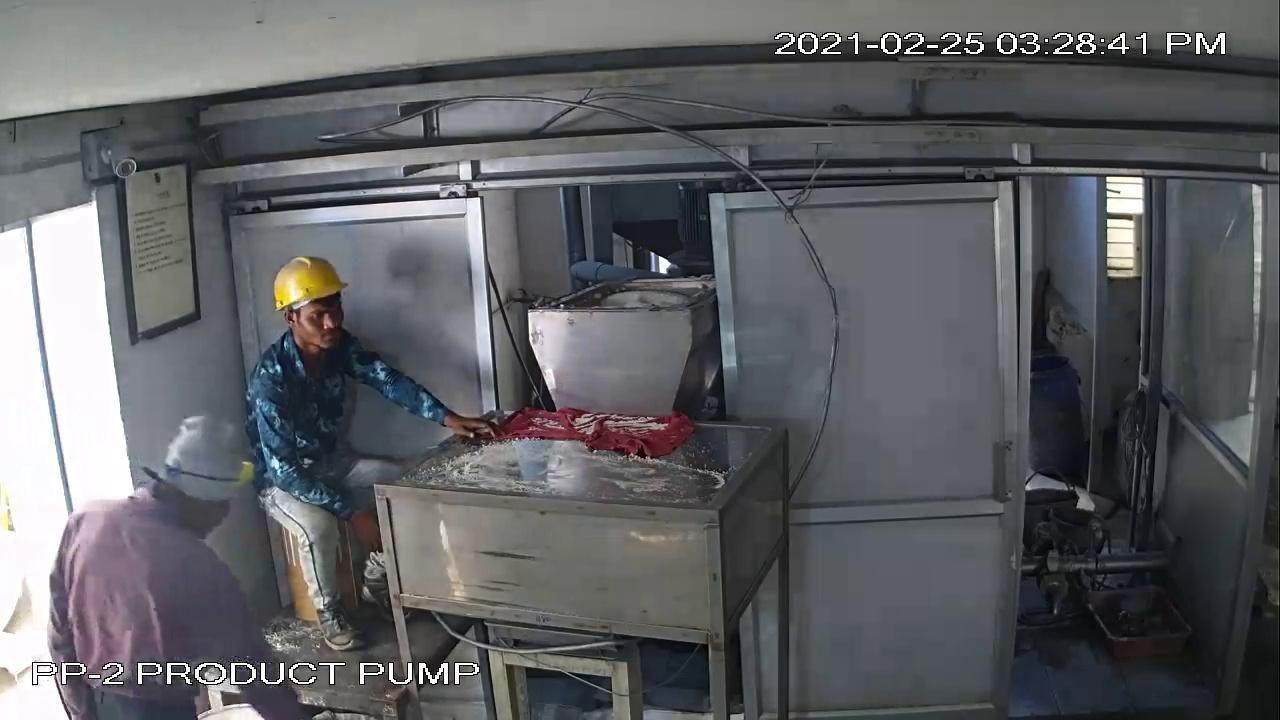helmet: (266, 258, 349, 325)
